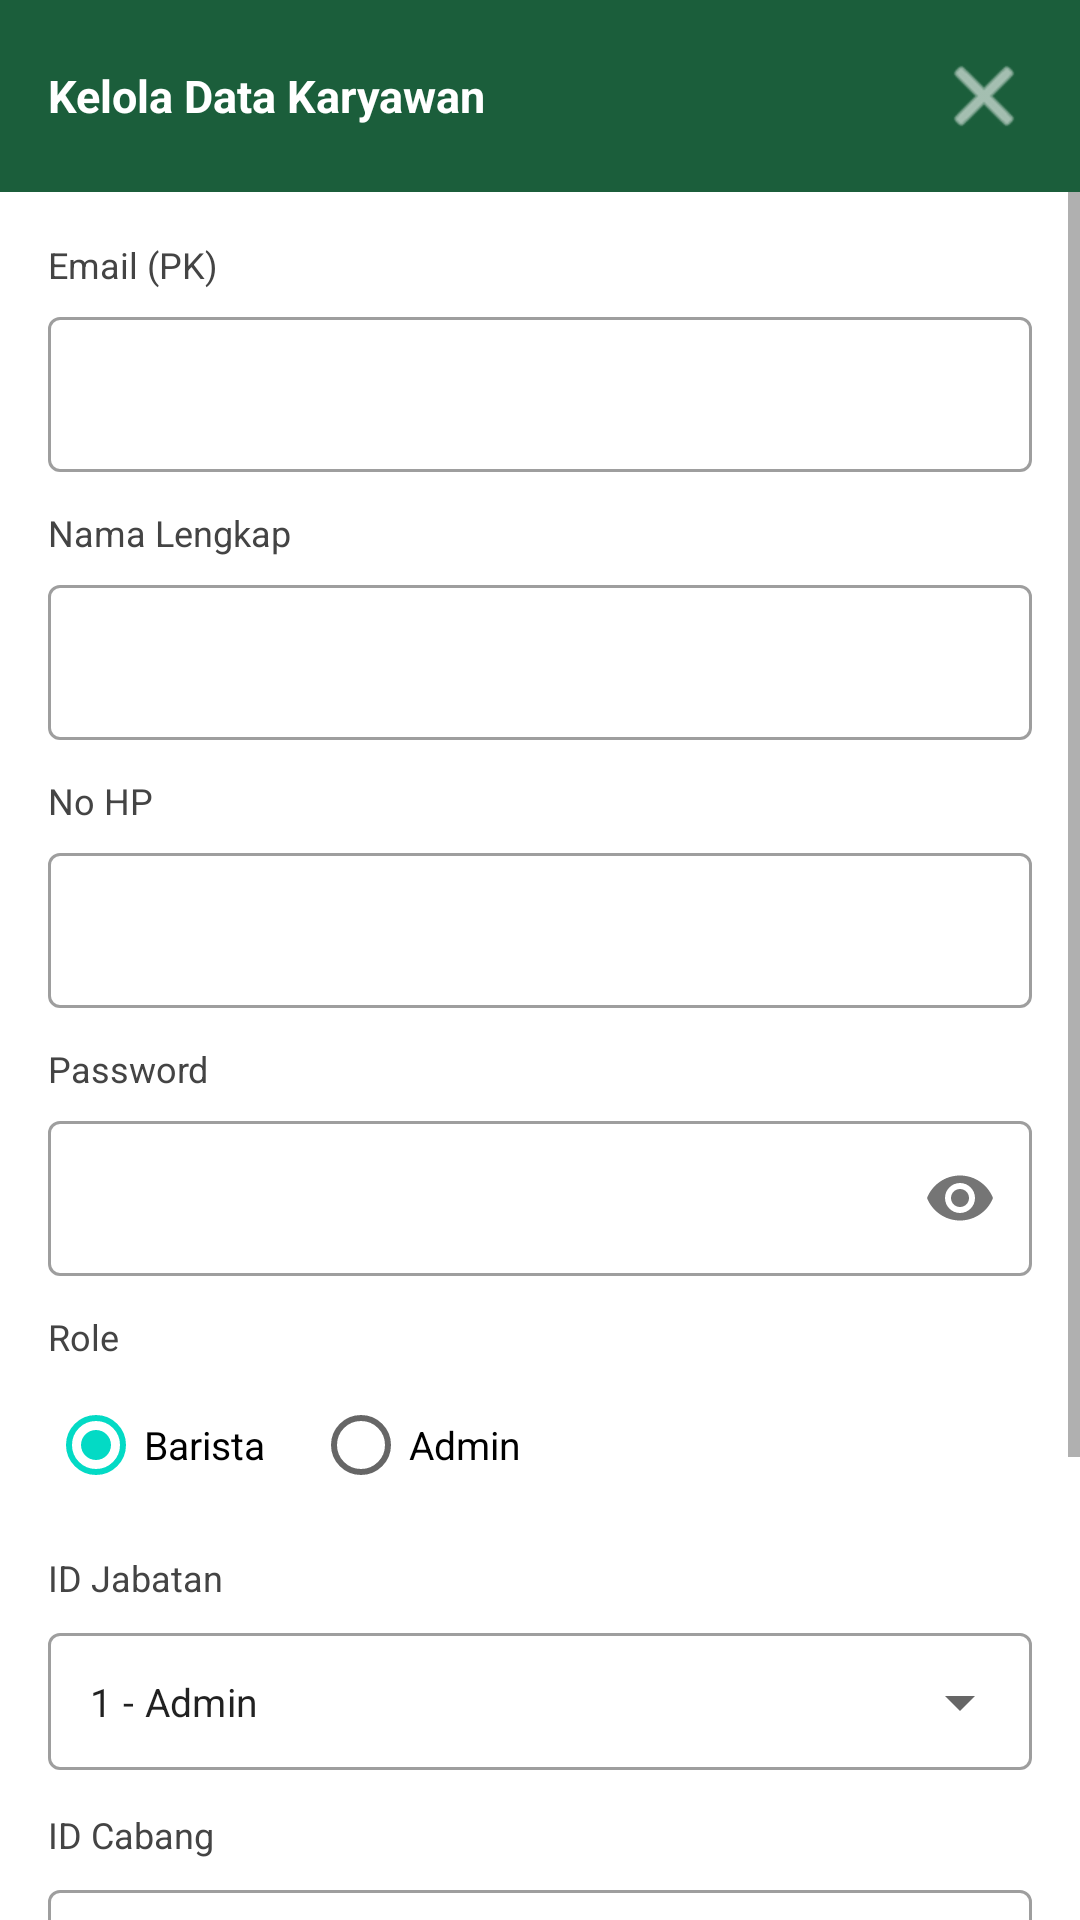

Icon bounding boxes for this 1080*1920 phone screenshot, format {"x1": x1, "y1": y1, "x2": x2, "y2": y2}:
close clear cancel: {"x1": 954, "y1": 66, "x2": 1014, "y2": 126}
